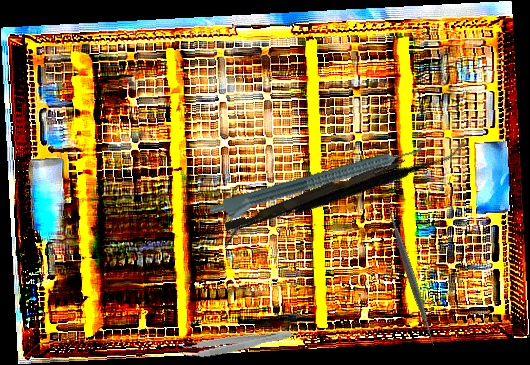Handpiece: (206, 141, 428, 228)
Pusher: (224, 151, 407, 236)
Spatula Surgical: (220, 62, 469, 327), (331, 195, 490, 352)
Tissue Forceps: (176, 322, 293, 362)
